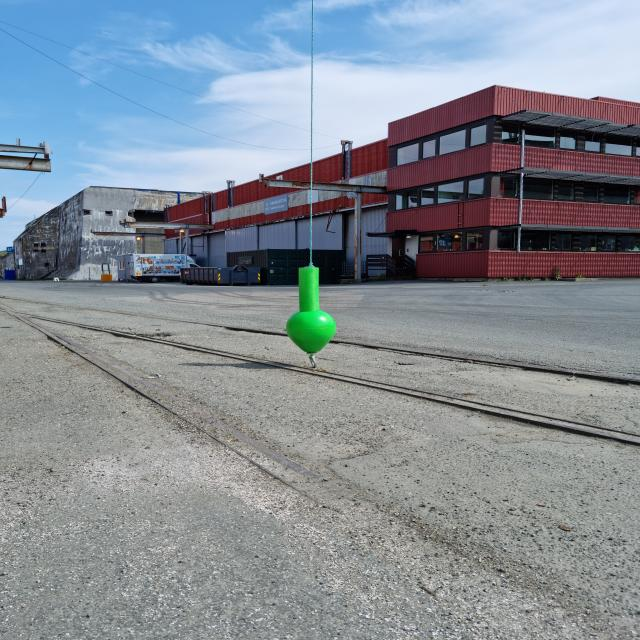green: (287, 266, 339, 353)
